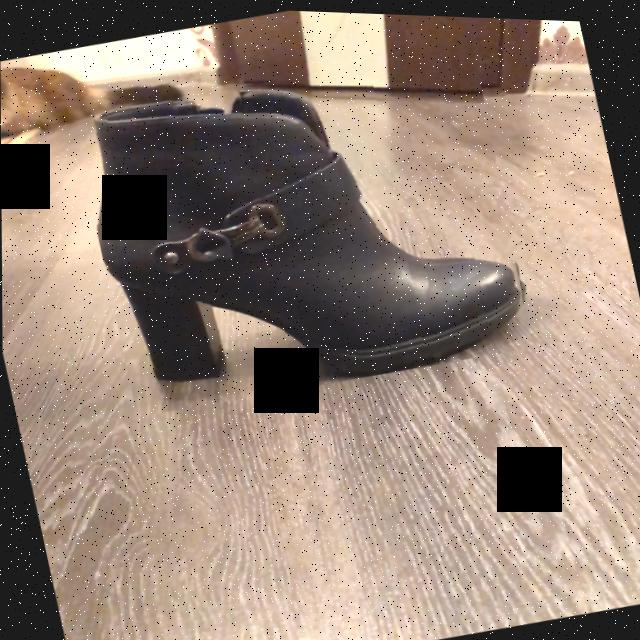shoe: (94, 92, 524, 383)
